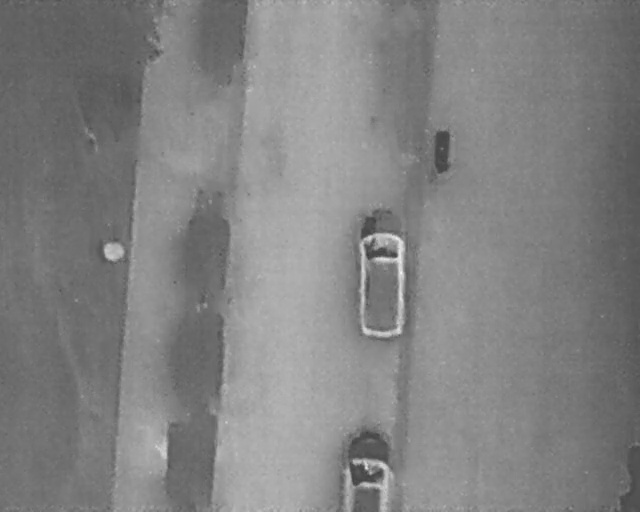Car: (355, 204, 408, 338), (339, 426, 397, 511)
